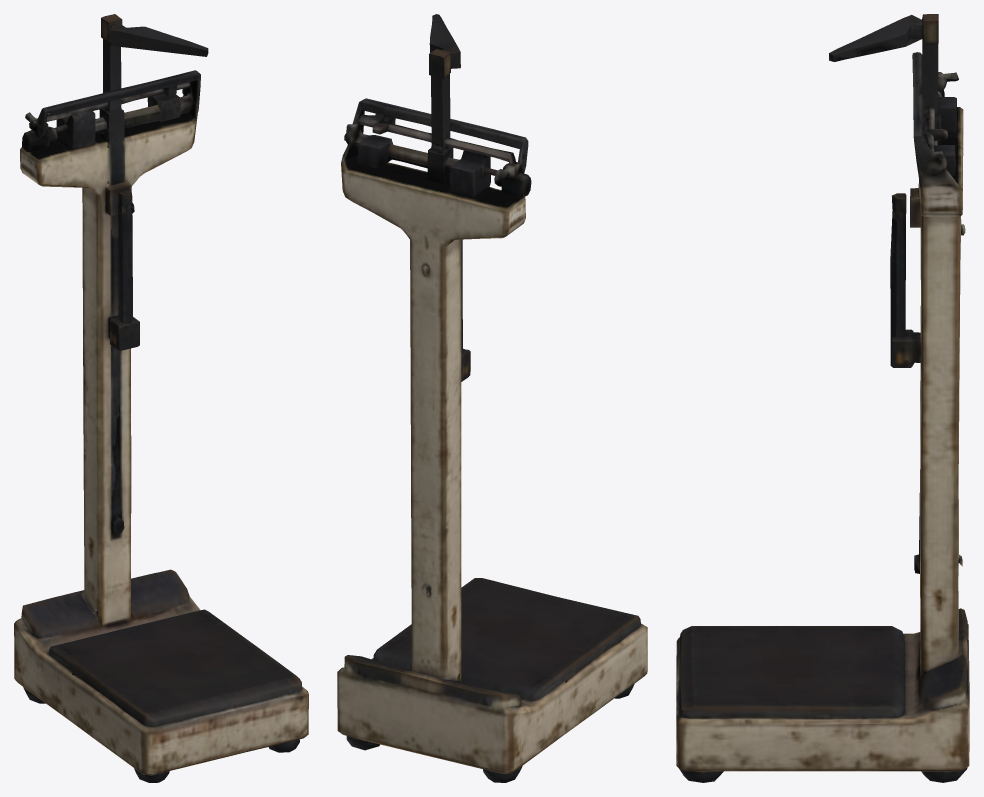
The model's file is p7-physician-scale.glb.
3 views of the same model, side by side, from view 1: azimuth 30°, elevation 25°; view 2: azimuth 150°, elevation 25°; view 3: azimuth 270°, elevation 25° (orthographic). The views are drawn at different scales.
Visible parts, largest first — view 1: p7-physician-scale; view 2: p7-physician-scale; view 3: p7-physician-scale.
Boxes of the visible parts, x1=… form: p7-physician-scale: x1=14, y1=14, x2=308, y2=782; p7-physician-scale: x1=337, y1=14, x2=647, y2=782; p7-physician-scale: x1=676, y1=14, x2=969, y2=782.
Size of the model in its own units: 0.4 by 1.5 by 0.55.
Materials: 1 (1 with a texture image).
